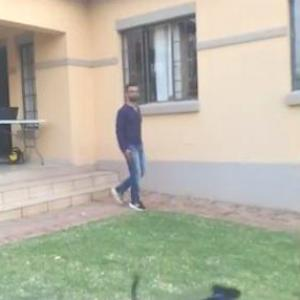follow: (123, 87, 151, 187)
